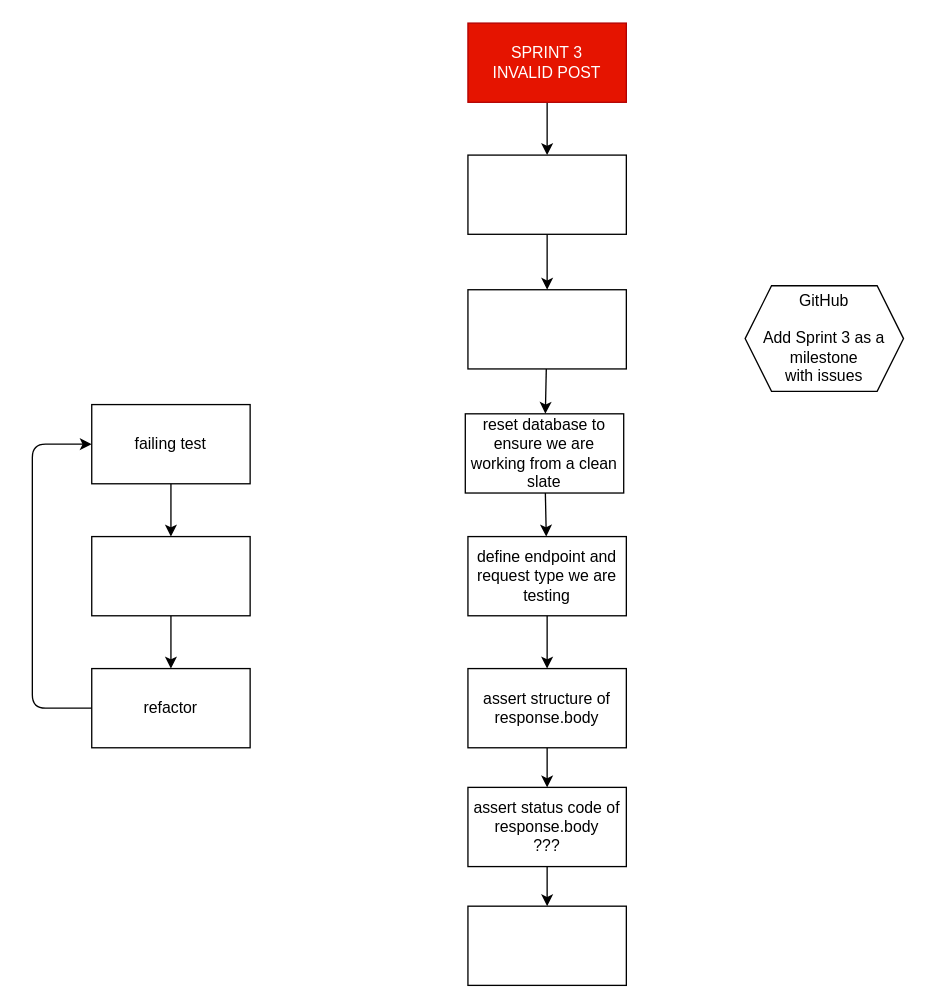
Some shapes in this 927 by 1008 pixel diagram are drawn without their labels. The centre of each missing label's shape, as x and y in pixels:
"assert header of response.body" goes at (x=546, y=945).
"import required functions and packages" goes at (x=546, y=194).
"passing test" goes at (x=170, y=575).
"write failing test for INVALID POST request (test skeleton)" goes at (x=546, y=328).
